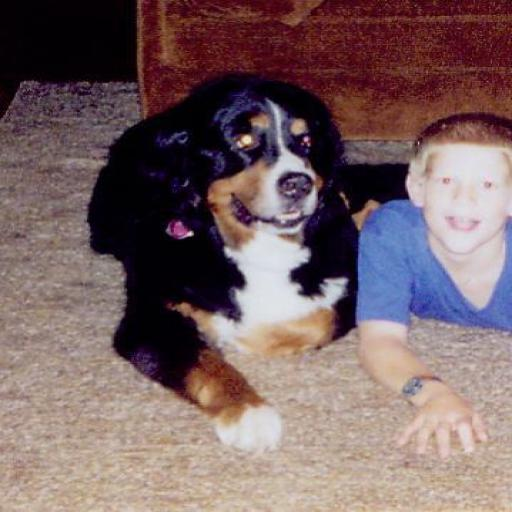dog_face: (162, 96, 339, 233)
